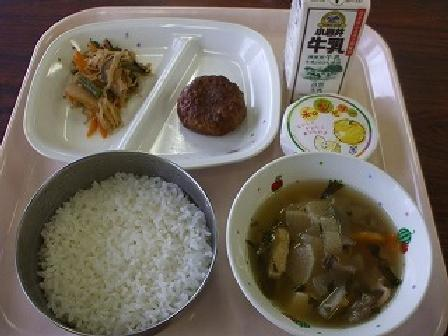Cup desserts: (278, 88, 377, 171)
Milk: (285, 1, 370, 103)
Rice: (22, 151, 214, 332)
cutlet: (172, 72, 252, 148)
vegetable based cooked food: (56, 33, 158, 134)
vegetable soup: (239, 163, 420, 330)
